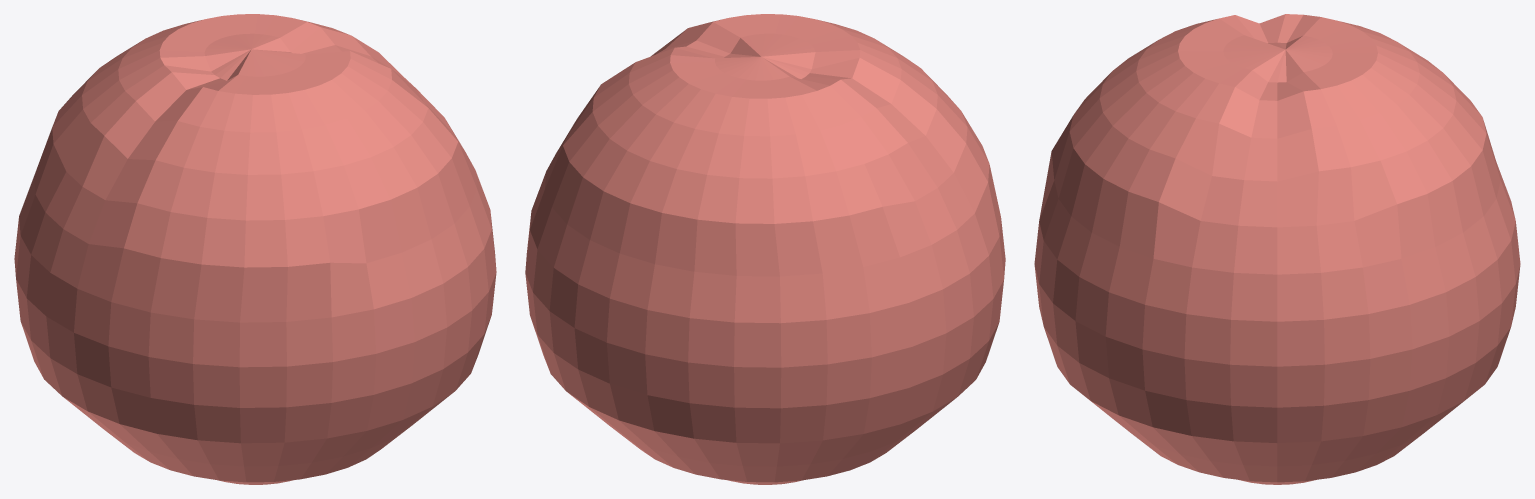
File: pessego.fbx
3 views of the same model, side by side, from view 1: azimuth 30°, elevation 25°; view 2: azimuth 150°, elevation 25°; view 3: azimuth 270°, elevation 25° (orthographic).
Parts seen in each view (by area): view 1: Sphere; view 2: Sphere; view 3: Sphere.
Boxes of the visible parts, left/top/right/bottom form: Sphere: left=14, top=14, right=496, bottom=484; Sphere: left=525, top=14, right=1005, bottom=484; Sphere: left=1034, top=14, right=1520, bottom=484.
Bounding box in the file's own units: 201 × 191 × 201.
